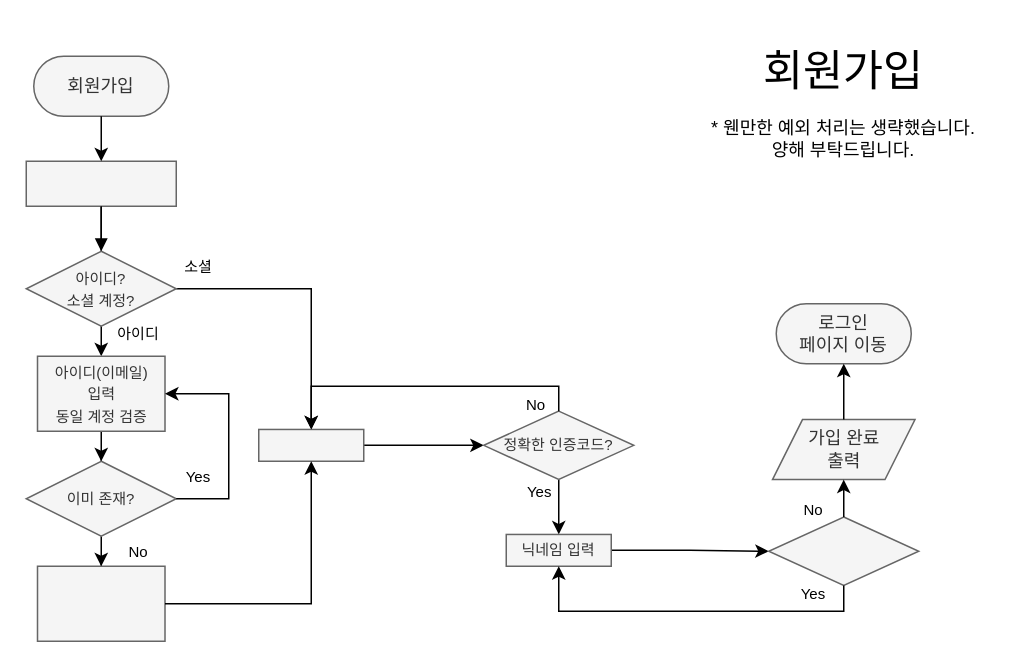
Some shapes in this 1013 by 668 pixel diagram are drawn without their labels. The centre of each missing label's shape, as x and y in pixels:
"비밀번호 입력 및 유효성 검사" goes at (100,603).
"인증코드 발송" goes at (310,444).
"중복 여부" goes at (843,550).
"회원가입 요청" goes at (100,183).
